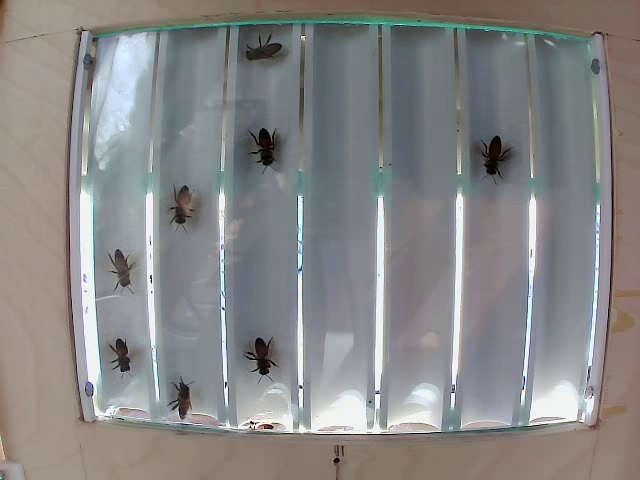bee: (253, 126, 293, 174), (101, 248, 143, 290), (240, 339, 297, 368), (481, 142, 520, 184), (166, 189, 201, 223), (93, 343, 131, 374)
